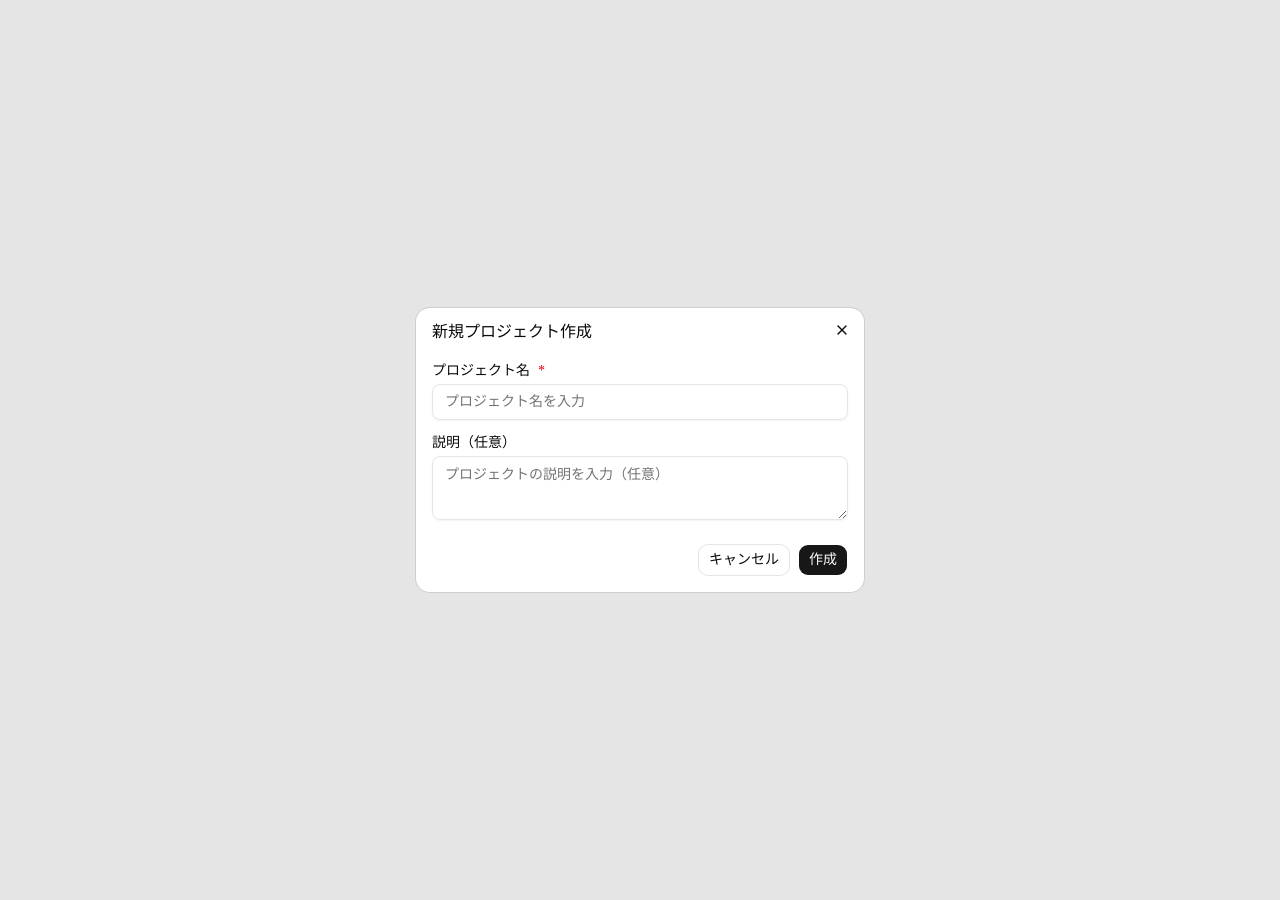
Test: CreateProjectModal › バリデーション › CreateProjectModal_名前が空で作成ボタンをクリックしたとき_role=alertでエラーが表示される
The width and height of the screenshot is (1280, 900).
Click the button "作成": (823, 560) [798,544,848,576]
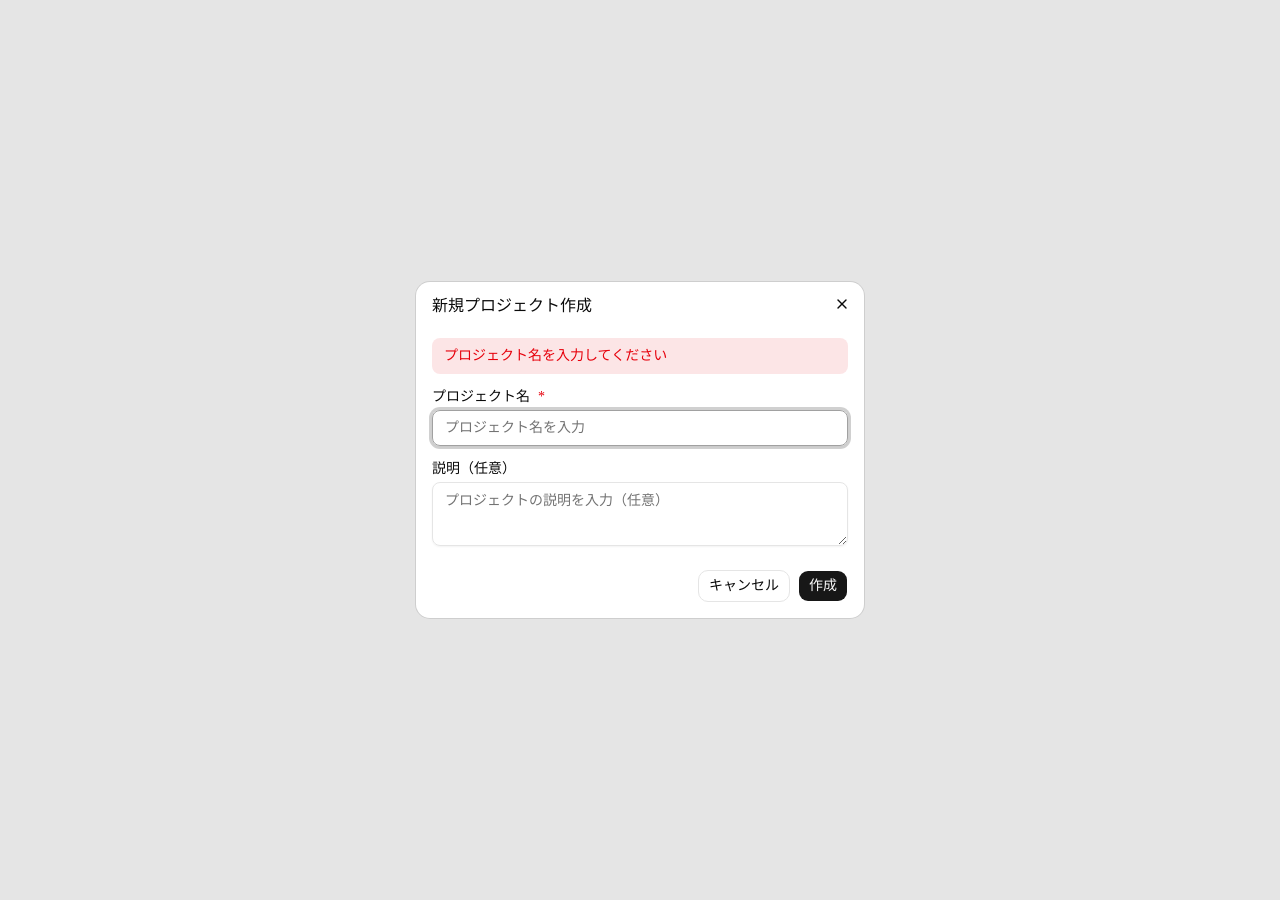
expect the message "プロジェクト名を入力してください" is shown: met, box [432,338,848,374]
